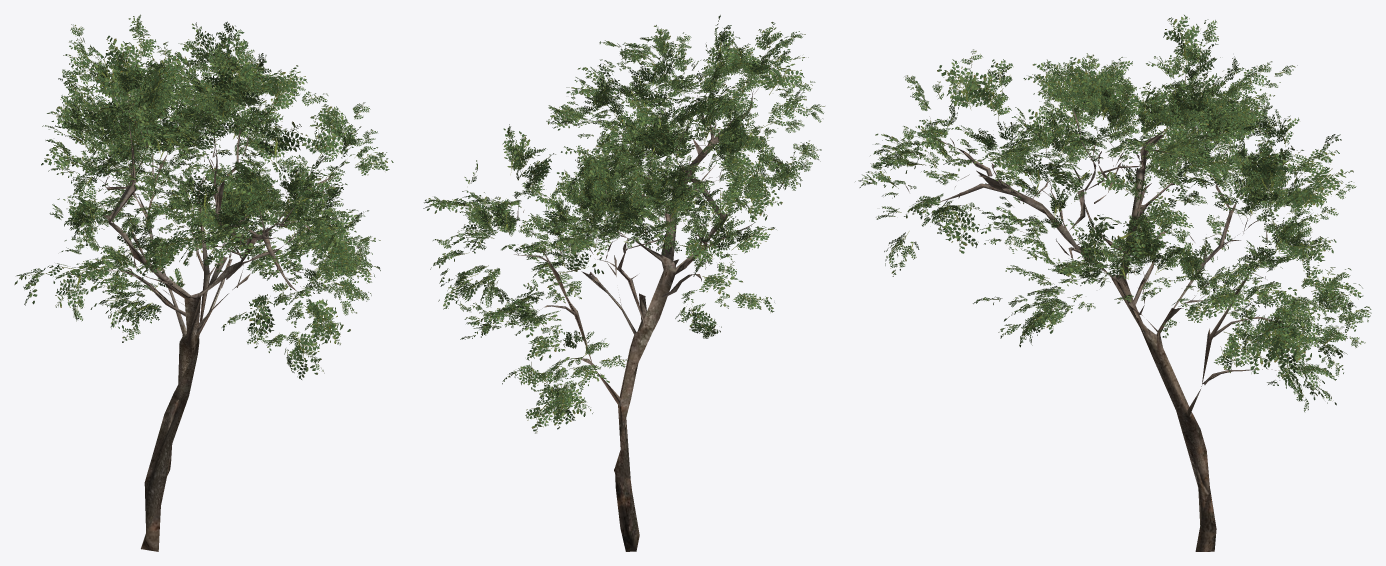
File: deciduous-tree-lod1.glb
3 renders of one model, left to right at view 1: azimuth 30°, elevation 25°; view 2: azimuth 150°, elevation 25°; view 3: azimuth 270°, elevation 25°, orthographic. The views are drawn at different scales.
Visible parts, largest first — view 1: tree_small_02_LOD0; view 2: tree_small_02_LOD0; view 3: tree_small_02_LOD0.
Boxes of the visible parts, x1,y1,x2,y2 form: tree_small_02_LOD0: (14,14,393,551); tree_small_02_LOD0: (423,15,824,551); tree_small_02_LOD0: (855,15,1371,551).
Size of the model in its own units: 2.93 by 4.56 by 4.29.
3 materials, 3 textured.
